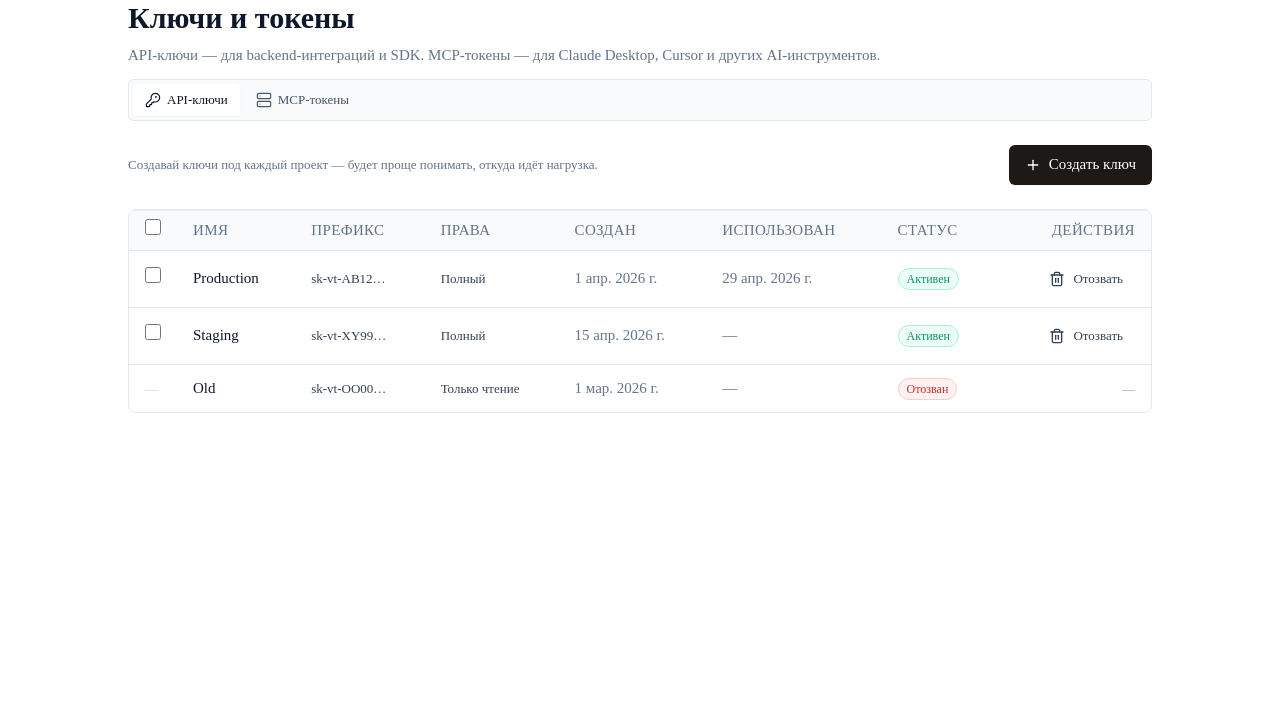
Test case: KeysPage bulk operations (Sprint 8) › revoke — открывает confirm dialog с правильным title
Click the checkbox with test id "select-key-k-1" at (153, 275), box [145, 267, 161, 283]
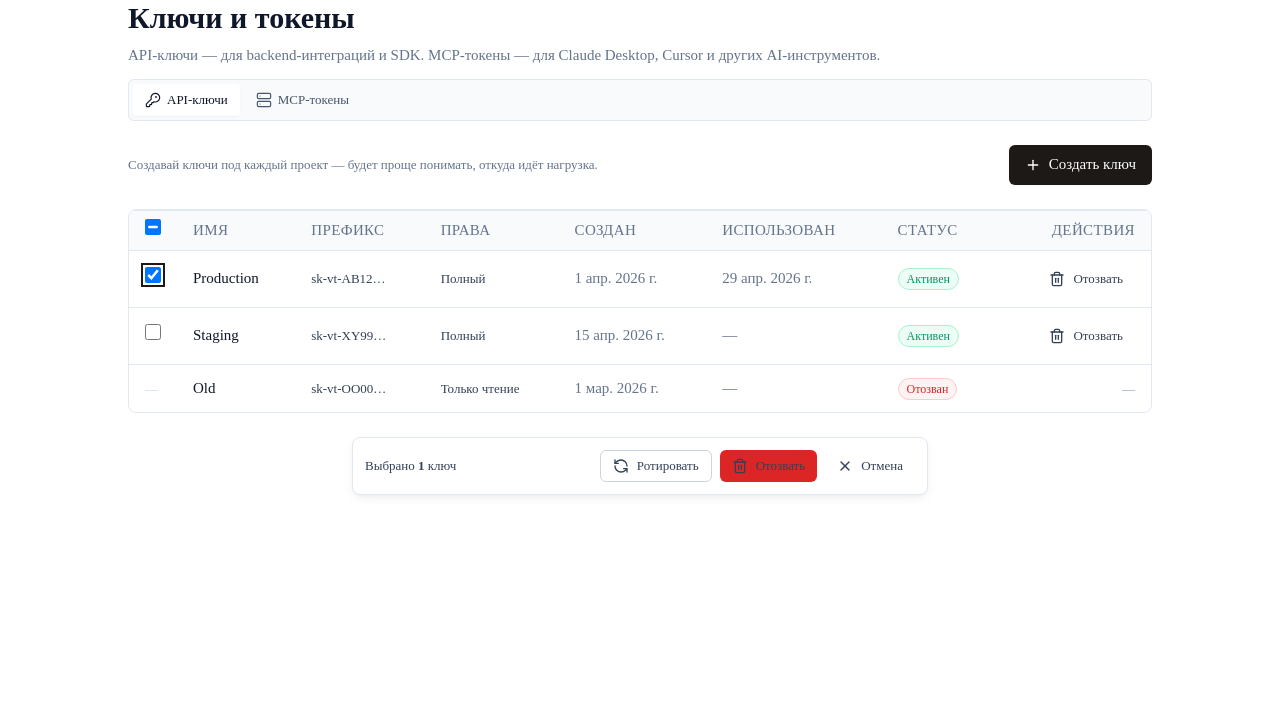
Click the checkbox with test id "select-key-k-2" at (153, 332), box [145, 324, 161, 340]
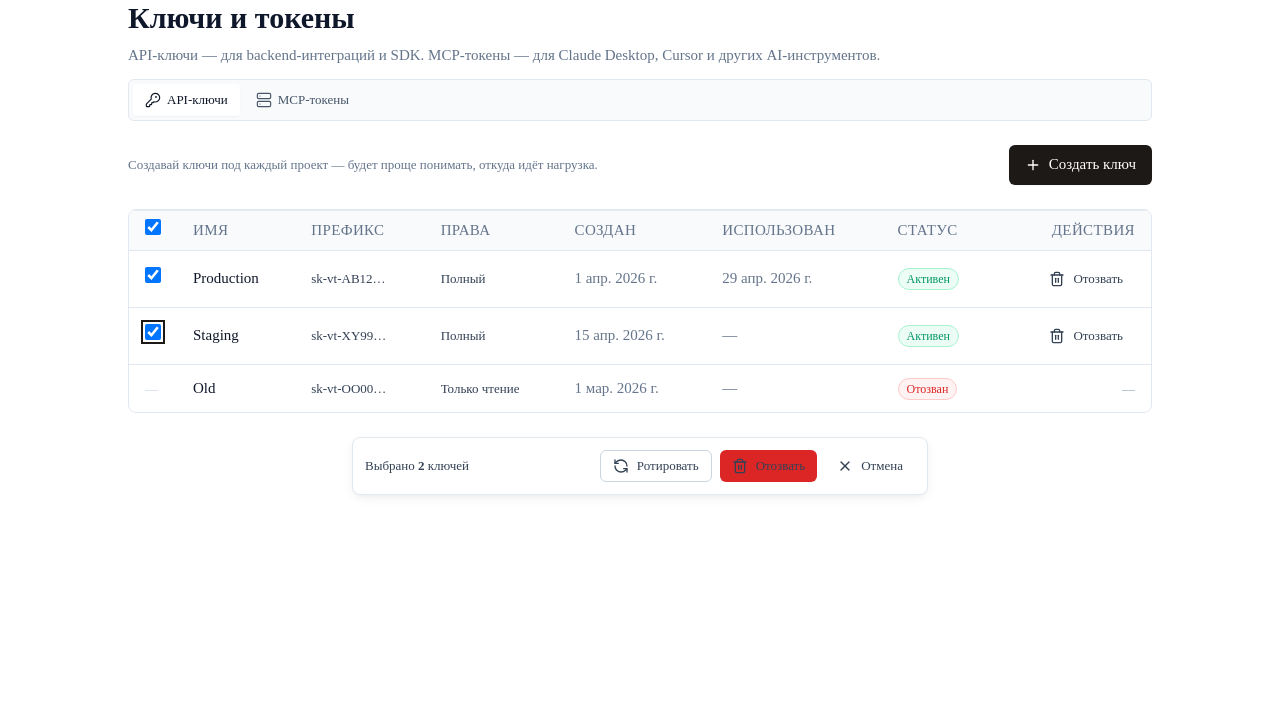
Click the button with test id "bulk-revoke" at (768, 466), box [720, 450, 817, 482]
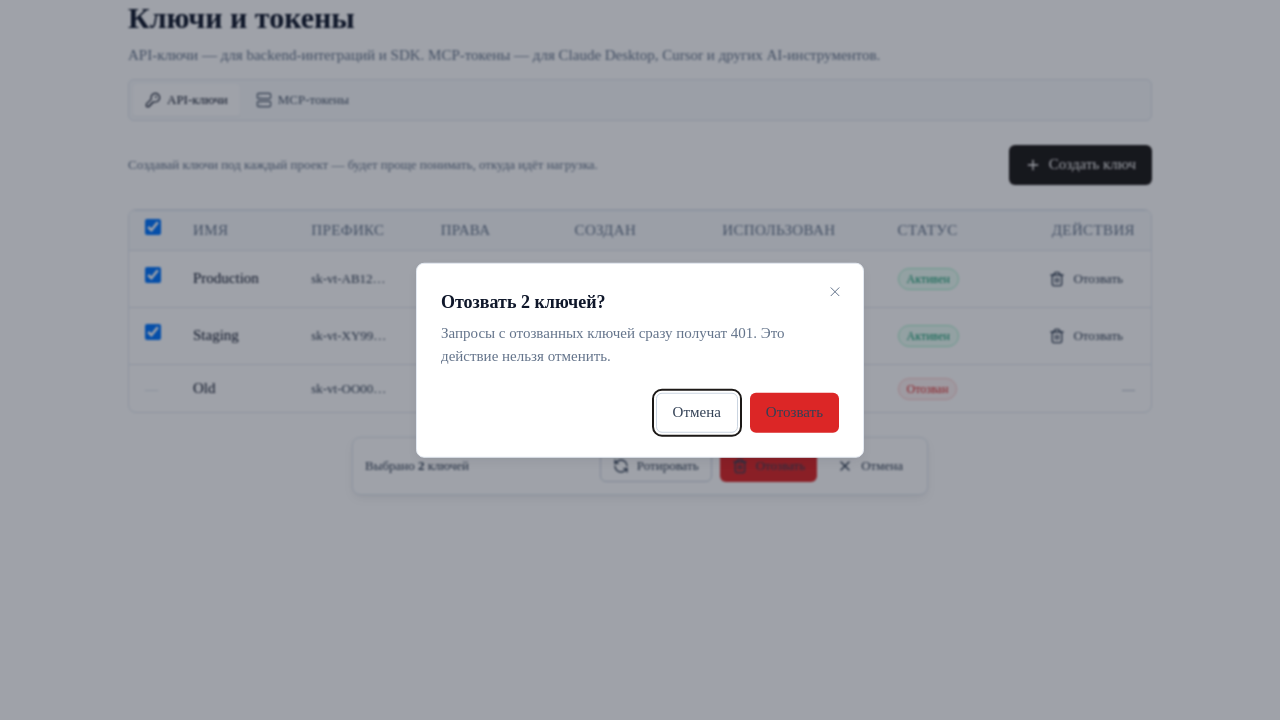
Expected: the heading "Отозвать 2 ключей?" is shown, [441, 292, 606, 312]
Expected: the text "Запросы с отозванных ключей сразу получат 401" is shown, [441, 325, 784, 364]
